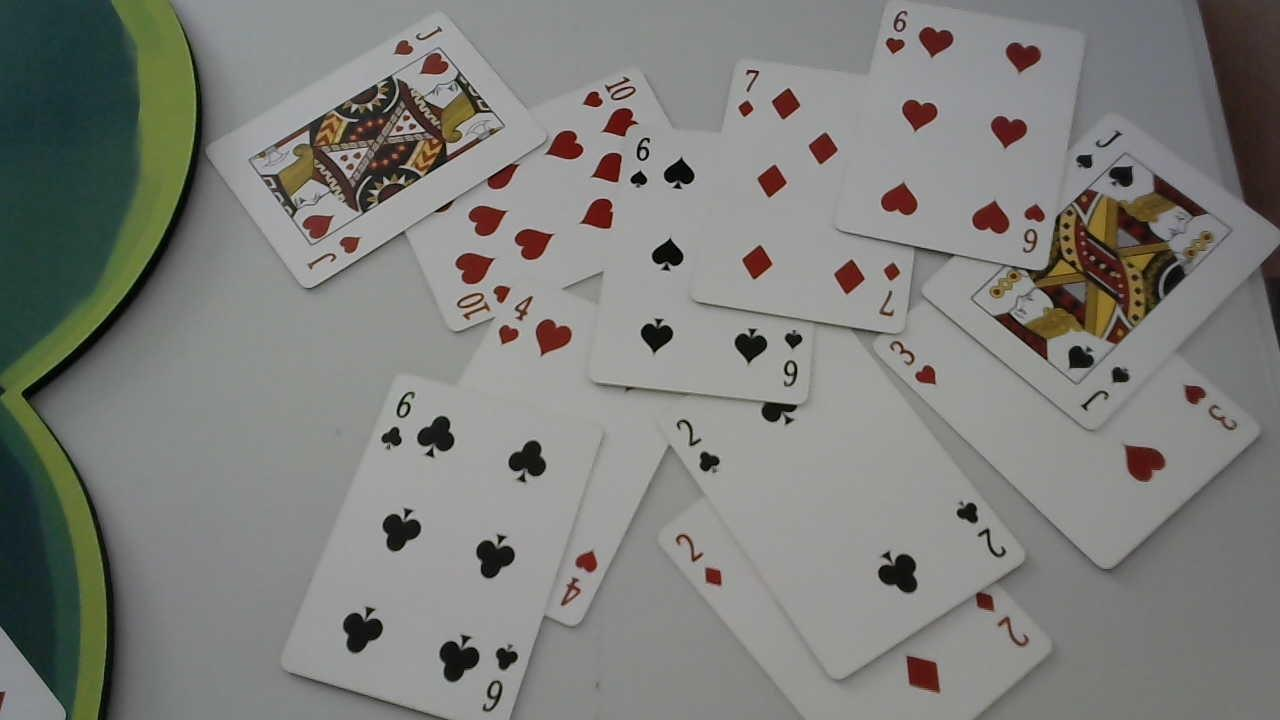10H: (449, 278, 513, 322), (579, 74, 639, 112)
2C: (952, 490, 1011, 567), (674, 410, 722, 476)
2D: (969, 583, 1033, 648), (673, 527, 730, 594)
3H: (1177, 378, 1243, 435), (883, 334, 945, 392)
4H: (491, 291, 540, 349), (558, 546, 599, 613)
6C: (480, 640, 520, 715), (378, 383, 418, 453)
6H: (1018, 198, 1050, 258), (886, 7, 912, 56)
6S: (772, 321, 808, 394), (625, 128, 656, 191)
7D: (875, 260, 902, 321), (739, 60, 760, 122)
JH: (306, 234, 363, 273), (391, 19, 444, 60)
JS: (1076, 366, 1139, 413), (1070, 126, 1127, 175)
